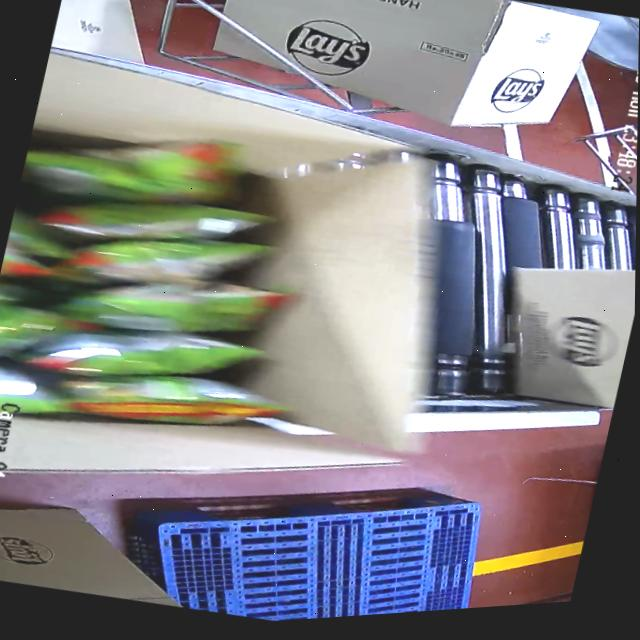YOGURT_HERB: (0, 101, 321, 464)
